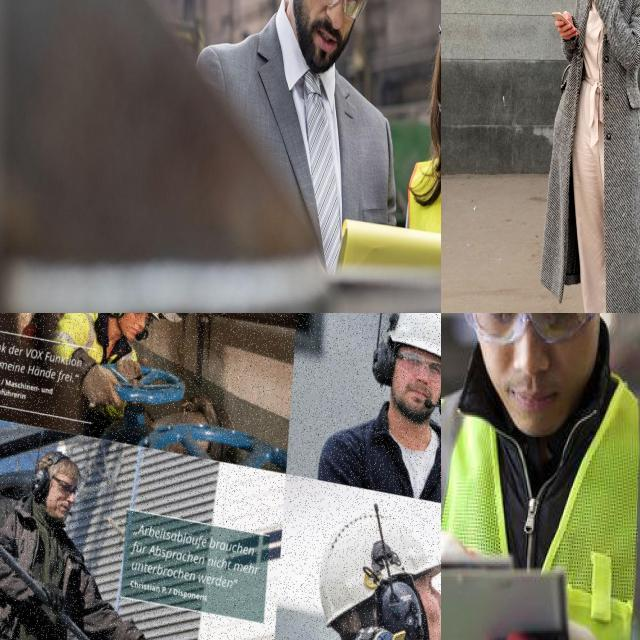No_Glasses: (414, 578, 441, 598)
face_nomask: (459, 313, 598, 428), (391, 360, 441, 423), (46, 482, 75, 519), (424, 594, 441, 640), (119, 313, 145, 342)
glasses: (457, 313, 601, 345), (395, 352, 441, 380), (52, 478, 78, 495), (133, 313, 152, 325)
hand_glove: (81, 364, 124, 408), (41, 582, 63, 610)
head_helmet: (320, 515, 441, 624), (388, 313, 441, 358)
head_nohelmet: (36, 451, 81, 484)
person: (441, 313, 640, 640)
vest: (441, 371, 640, 640)
